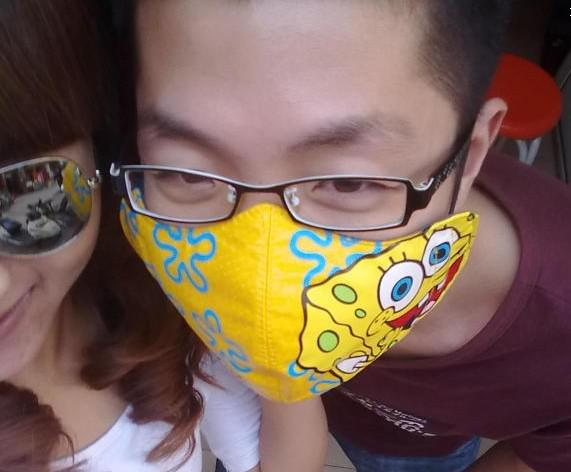NONE: (1, 144, 98, 383)
OK: (133, 91, 449, 385)
